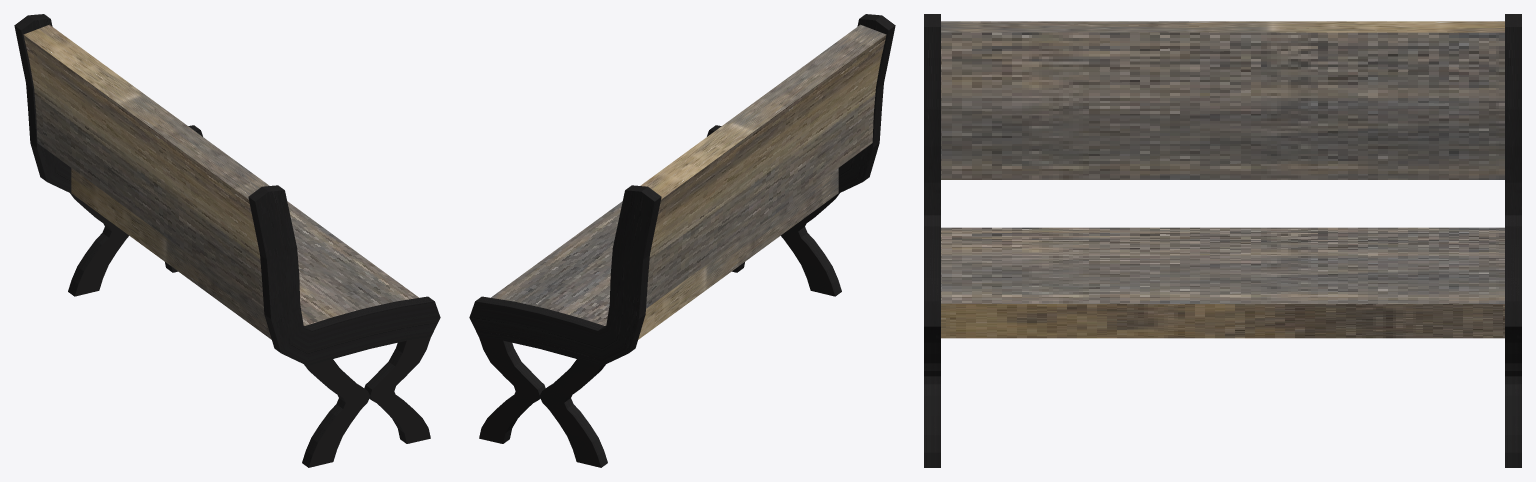
File: park_bench.gltf
3 renders of one model, left to right at view 1: azimuth 30°, elevation 25°; view 2: azimuth 150°, elevation 25°; view 3: azimuth 270°, elevation 25°, orthographic. The views are drawn at different scales.
Visible parts, largest first — view 1: Back-col, REndCap, Seat-col, LEndCap; view 2: Back-col, LEndCap, Seat-col, REndCap; view 3: Back-col, Seat-col, REndCap, LEndCap.
Boxes of the visible parts, x1=… form: Back-col: x1=23, y1=24, x2=269, y2=308; REndCap: x1=248, y1=185, x2=440, y2=467; Seat-col: x1=71, y1=168, x2=418, y2=339; LEndCap: x1=14, y1=14, x2=202, y2=296; Back-col: x1=640, y1=24, x2=886, y2=308; LEndCap: x1=469, y1=185, x2=661, y2=467; Seat-col: x1=491, y1=168, x2=838, y2=339; REndCap: x1=707, y1=14, x2=895, y2=296; Back-col: x1=941, y1=21, x2=1504, y2=179; Seat-col: x1=941, y1=227, x2=1504, y2=338; REndCap: x1=924, y1=14, x2=940, y2=467; LEndCap: x1=1505, y1=14, x2=1521, y2=467.
Size of the model in its own units: 2.95 by 4.36 by 6.64.
Materials: 2 (2 with a texture image).
